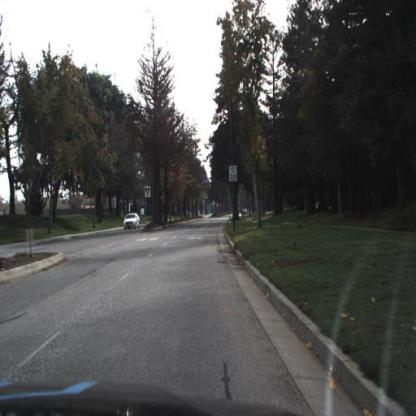car: (122, 212, 143, 231)
